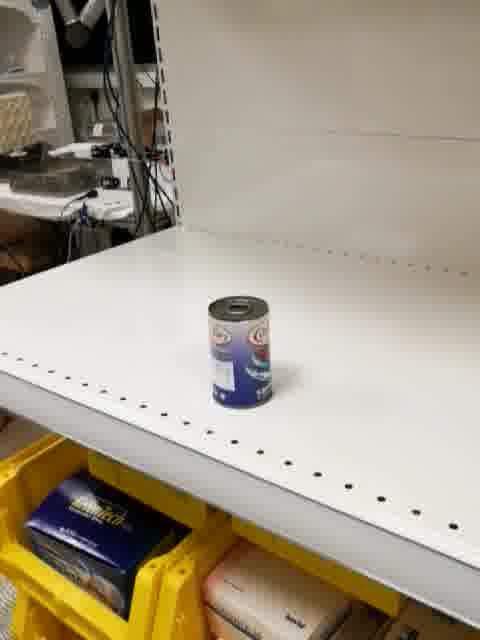sardine: (207, 294, 274, 410)
